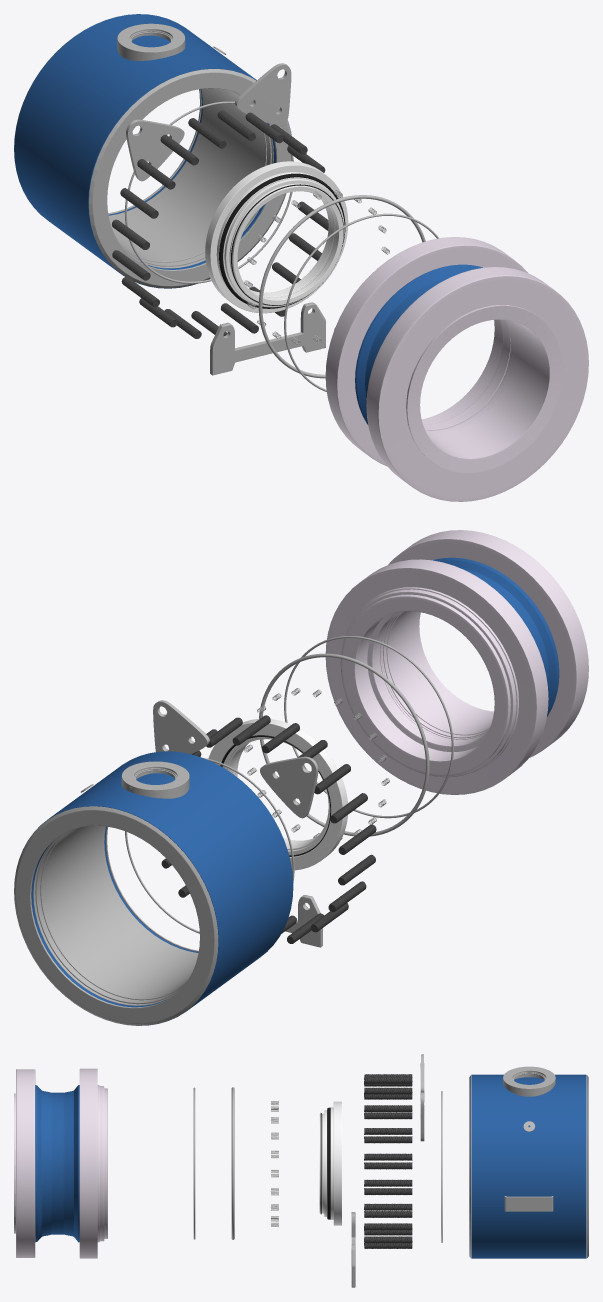
File: L&T_Valve.gltf
3 renders of one model, top to bottom at view 1: azimuth 30°, elevation 25°; view 2: azimuth 150°, elevation 25°; view 3: azimuth 270°, elevation 25°, orthographic. The views are drawn at different scales.
Visible parts, largest first — view 1: polySurface6_2, pPipe27, polySurface6_1, polySurface15, pPipe22, pPipe14, pCylinder1, pCube8, pCube3, pPipe20, pCube4, pPipe13 (+8 smaller); view 2: polySurface6_1, polySurface6_2, pPipe22, pPipe24, pPipe27, polySurface15, pPipe14, pCylinder1, polySurface12, pCube4, pCube3, pPipe28 (+7 smaller); view 3: polySurface6_2, pCylinder1, pPipe27, pPipe22, pPipe13, pPipe14, pPipe28, pCube1, polySurface6_1, O_RING2, pPipe24, pPipe29 (+20 smaller).
Boxes of the visible parts, x1=… form: polySurface6_2: x1=14, y1=14, x2=291, y2=288; pPipe27: x1=366, y1=267, x2=588, y2=501; polySurface6_1: x1=14, y1=14, x2=291, y2=288; polySurface15: x1=406, y1=305, x2=563, y2=473; pPipe22: x1=325, y1=237, x2=528, y2=466; pPipe14: x1=205, y1=161, x2=348, y2=313; pCylinder1: x1=355, y1=264, x2=482, y2=424; pCube8: x1=210, y1=302, x2=325, y2=375; pCube3: x1=234, y1=63, x2=291, y2=126; pPipe20: x1=232, y1=185, x2=343, y2=305; pCube4: x1=126, y1=119, x2=184, y2=181; pPipe13: x1=117, y1=23, x2=185, y2=60; polySurface6_1: x1=14, y1=806, x2=218, y2=1025; polySurface6_2: x1=29, y1=751, x2=293, y2=1025; pPipe22: x1=325, y1=559, x2=548, y2=794; pPipe24: x1=341, y1=594, x2=510, y2=775; pPipe27: x1=388, y1=530, x2=588, y2=757; polySurface15: x1=386, y1=611, x2=493, y2=735; pPipe14: x1=208, y1=718, x2=347, y2=870; pCylinder1: x1=433, y1=557, x2=559, y2=716; polySurface12: x1=367, y1=612, x2=488, y2=751; pCube4: x1=260, y1=756, x2=318, y2=818; pCube3: x1=153, y1=700, x2=209, y2=754; pPipe28: x1=340, y1=589, x2=516, y2=777; polySurface6_2: x1=471, y1=1074, x2=586, y2=1258; pCylinder1: x1=35, y1=1085, x2=79, y2=1242; pPipe27: x1=16, y1=1069, x2=35, y2=1257; pPipe22: x1=79, y1=1068, x2=97, y2=1258; pPipe13: x1=503, y1=1066, x2=555, y2=1096; pPipe14: x1=333, y1=1101, x2=341, y2=1225; pPipe28: x1=99, y1=1086, x2=104, y2=1241; pCube1: x1=504, y1=1196, x2=553, y2=1211; polySurface6_1: x1=469, y1=1075, x2=588, y2=1257; O_RING2: x1=231, y1=1087, x2=234, y2=1239; pPipe24: x1=104, y1=1088, x2=107, y2=1238; pPipe29: x1=97, y1=1085, x2=99, y2=1242.
Size of the model in its own units: 12.61 by 13.52 by 36.24.
